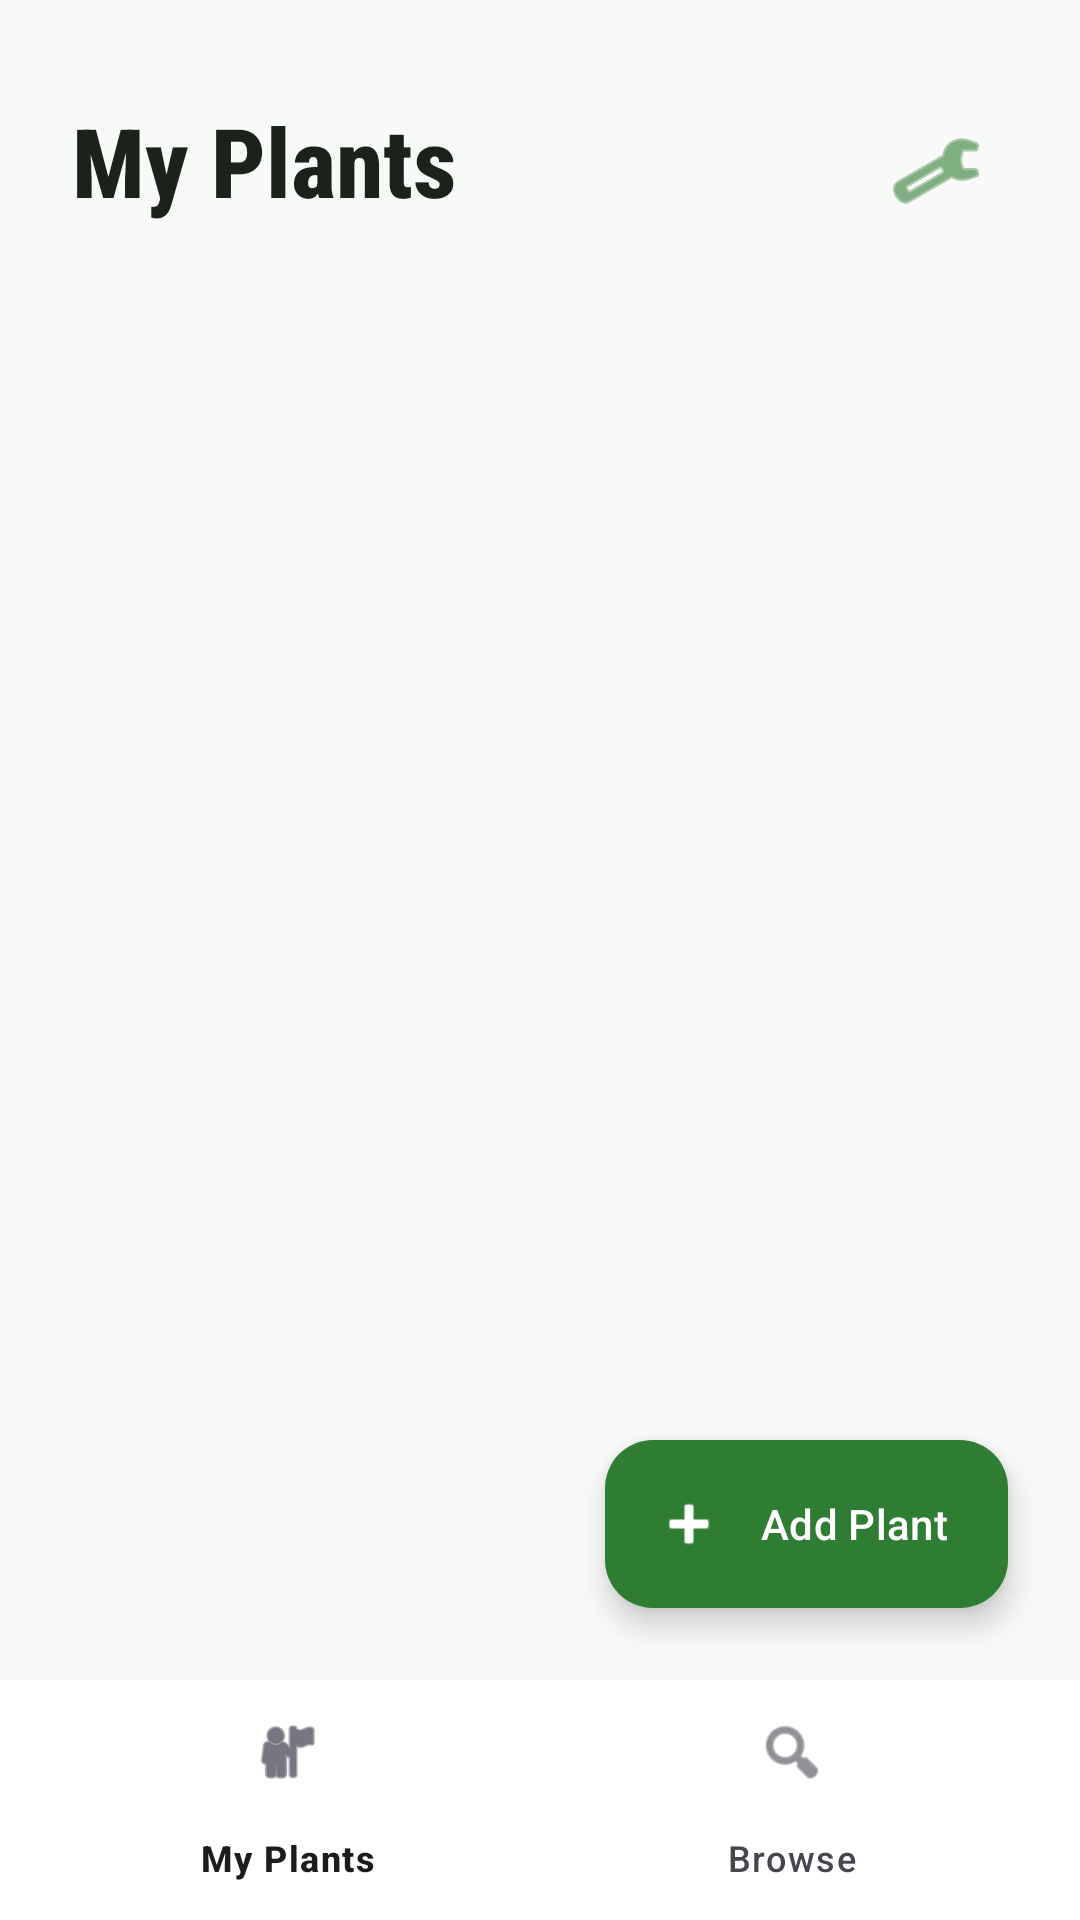

Where to tap for icons on this 1080px×1920px app screen, as point (x, y):
Settings: point (936, 171)
